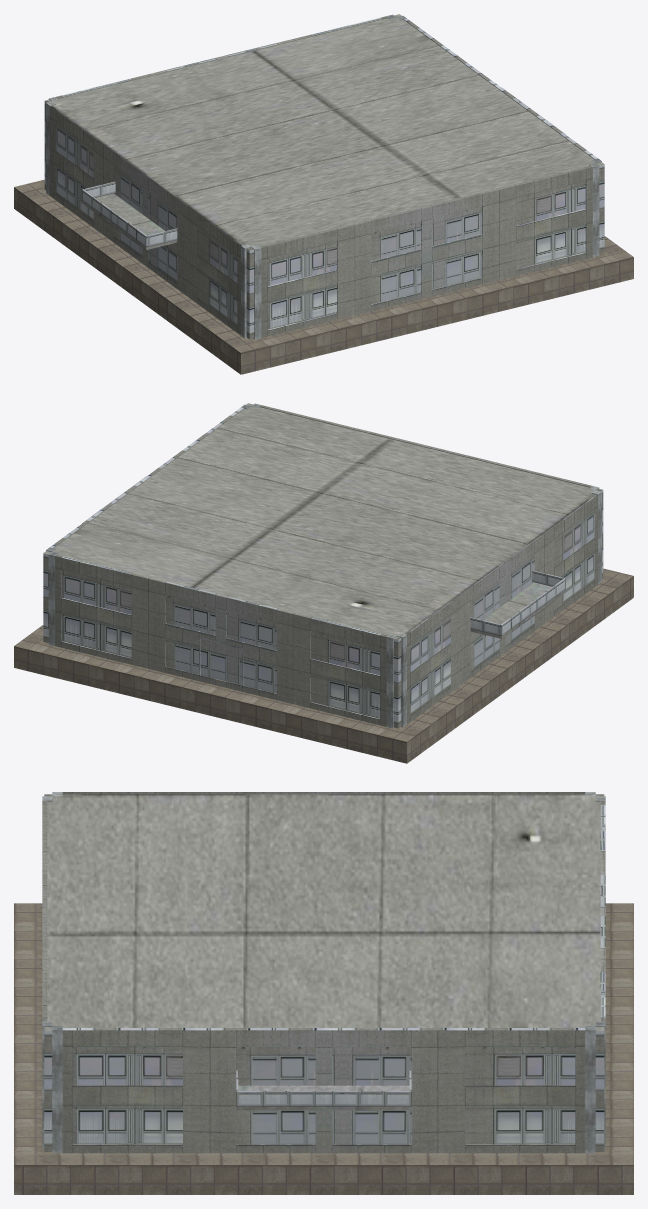
The model's file is BagSS10base_200.fbx.
3 views of the same model, one above another, from view 1: azimuth 30°, elevation 25°; view 2: azimuth 150°, elevation 25°; view 3: azimuth 270°, elevation 25° (orthographic). The views are drawn at different scales.
Parts seen in each view (by area): view 1: baseBox200, baseMain200, baseFound200, baseCrete200; view 2: baseBox200, baseMain200, baseFound200, baseCrete200; view 3: baseBox200, baseMain200, baseFound200, baseCrete200.
Part boxes in pixels (<box>): baseBox200: <box>44,14,604,339</box>; baseMain200: <box>49,16,597,337</box>; baseFound200: <box>14,179,633,374</box>; baseCrete200: <box>46,14,601,339</box>; baseBox200: <box>43,403,603,728</box>; baseMain200: <box>50,405,598,726</box>; baseFound200: <box>14,568,633,763</box>; baseCrete200: <box>46,403,601,728</box>; baseBox200: <box>44,794,604,1151</box>; baseMain200: <box>42,792,605,1153</box>; baseFound200: <box>14,903,633,1194</box>; baseCrete200: <box>42,792,605,1153</box>.
Bounding box in the file's own units: 51.84 × 13.2 × 48.58.
